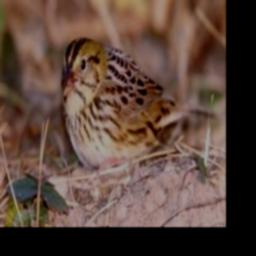Sparrow: (60, 34, 217, 175)
